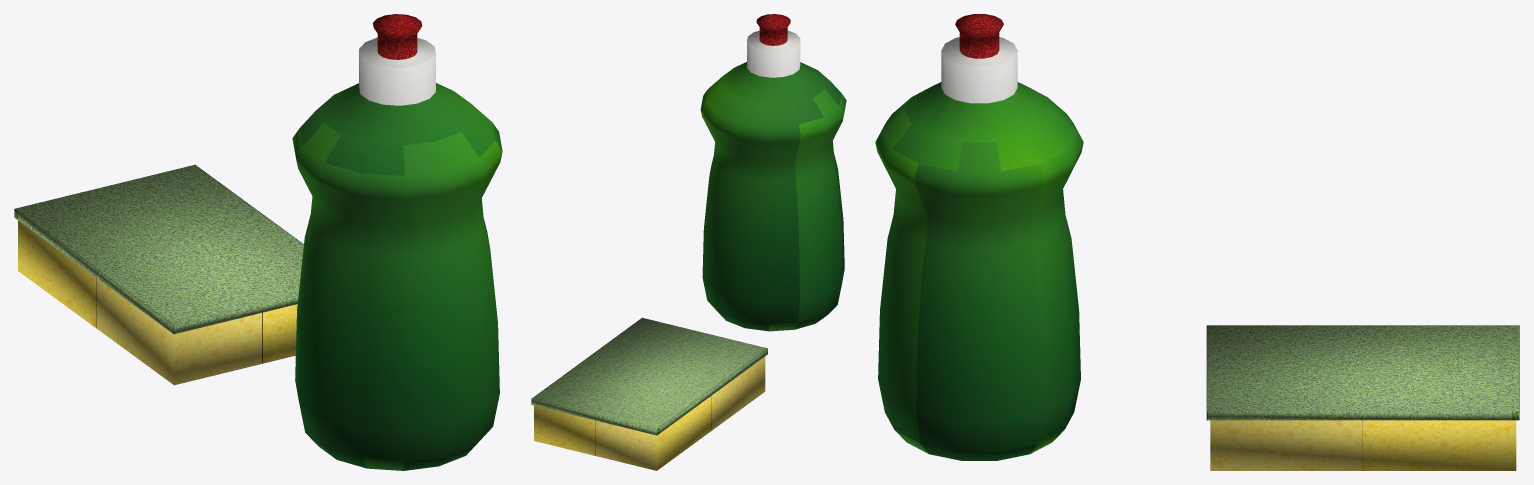
Rendered from Soap&Sponge.fbx.
The picture shows the model from 3 angles, left to right: view 1: azimuth 30°, elevation 25°; view 2: azimuth 150°, elevation 25°; view 3: azimuth 270°, elevation 25°; orthographic projection. The views are drawn at different scales.
Visible parts, largest first — view 1: Soap&Sponge; view 2: Soap&Sponge; view 3: Soap&Sponge.
Boxes of the visible parts, <box> form: Soap&Sponge: <box>14,14,502,470</box>; Soap&Sponge: <box>531,14,846,470</box>; Soap&Sponge: <box>875,14,1519,470</box>.
Size of the model in its own units: 188 by 389 by 541.
